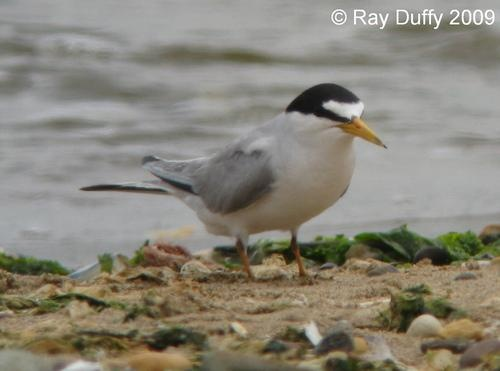bird: (91, 80, 389, 284)
